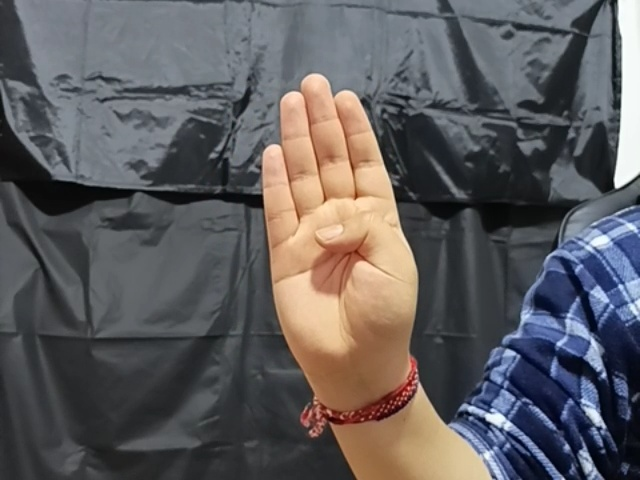B: (256, 69, 428, 386)
